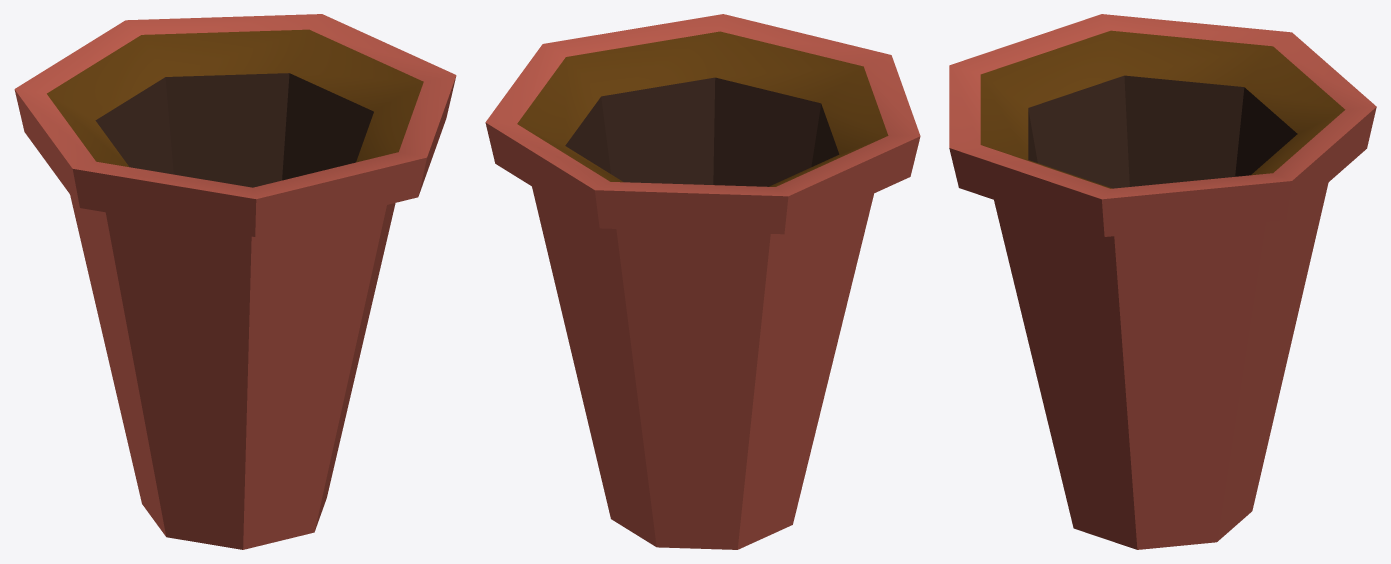
The model's file is Pot2.fbx.
3 renders of one model, left to right at view 1: azimuth 30°, elevation 25°; view 2: azimuth 150°, elevation 25°; view 3: azimuth 270°, elevation 25°, orthographic.
Parts seen in each view (by area): view 1: Pot; view 2: Pot; view 3: Pot.
Part boxes in pixels (bbox=[...]): Pot: bbox=[14, 14, 456, 549]; Pot: bbox=[485, 14, 920, 549]; Pot: bbox=[949, 14, 1376, 549].
Size of the model in its own units: 0.594 by 0.6046 by 0.5791.
